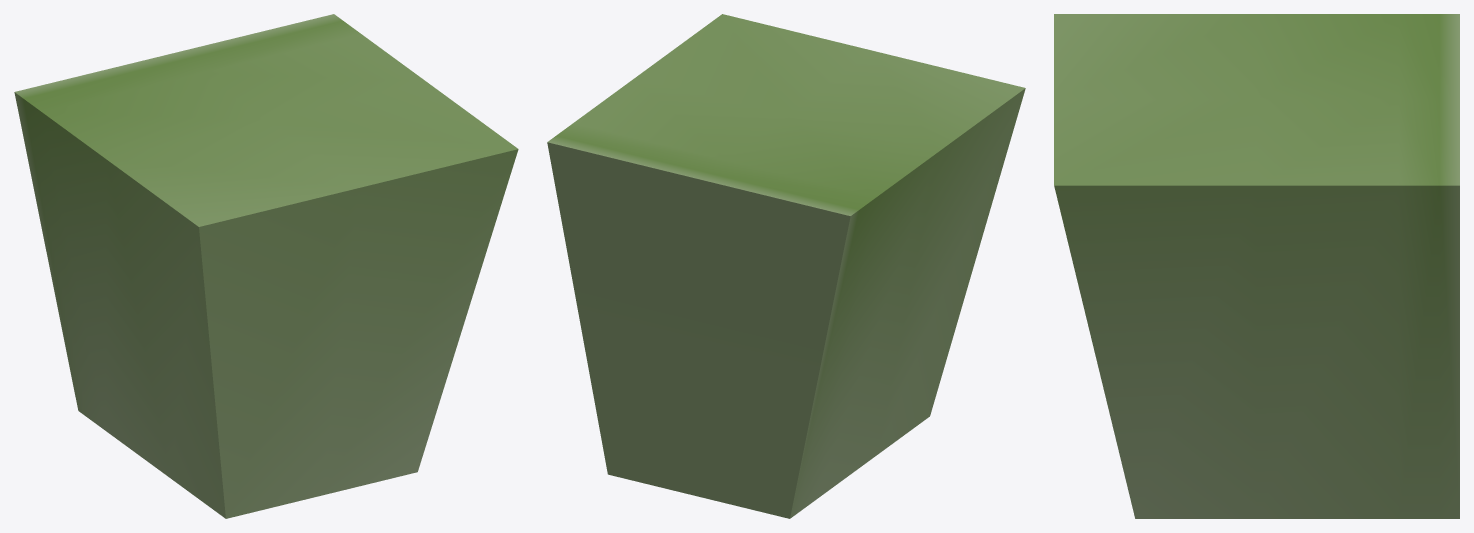
File: T3DirL.fbx
The picture shows the model from 3 angles, left to right: view 1: azimuth 30°, elevation 25°; view 2: azimuth 150°, elevation 25°; view 3: azimuth 270°, elevation 25°; orthographic projection. The views are drawn at different scales.
Visible parts, largest first — view 1: 3, 1, 4, 2; view 2: 4, 2, 3, 1; view 3: 2, 1, 3, 4.
Boxes of the visible parts, left/top/right/bottom form: 3: left=107, top=120, right=358, bottom=518; 1: left=267, top=81, right=518, bottom=495; 4: left=14, top=53, right=265, bottom=477; 2: left=174, top=14, right=425, bottom=120; 4: left=699, top=115, right=937, bottom=518; 2: left=547, top=78, right=785, bottom=496; 3: left=787, top=51, right=1025, bottom=454; 1: left=635, top=14, right=873, bottom=114; 2: left=1257, top=99, right=1459, bottom=518; 1: left=1054, top=99, right=1256, bottom=518; 3: left=1054, top=14, right=1256, bottom=99; 4: left=1257, top=14, right=1459, bottom=99.
Size of the model in its own units: 200 by 200 by 200.
